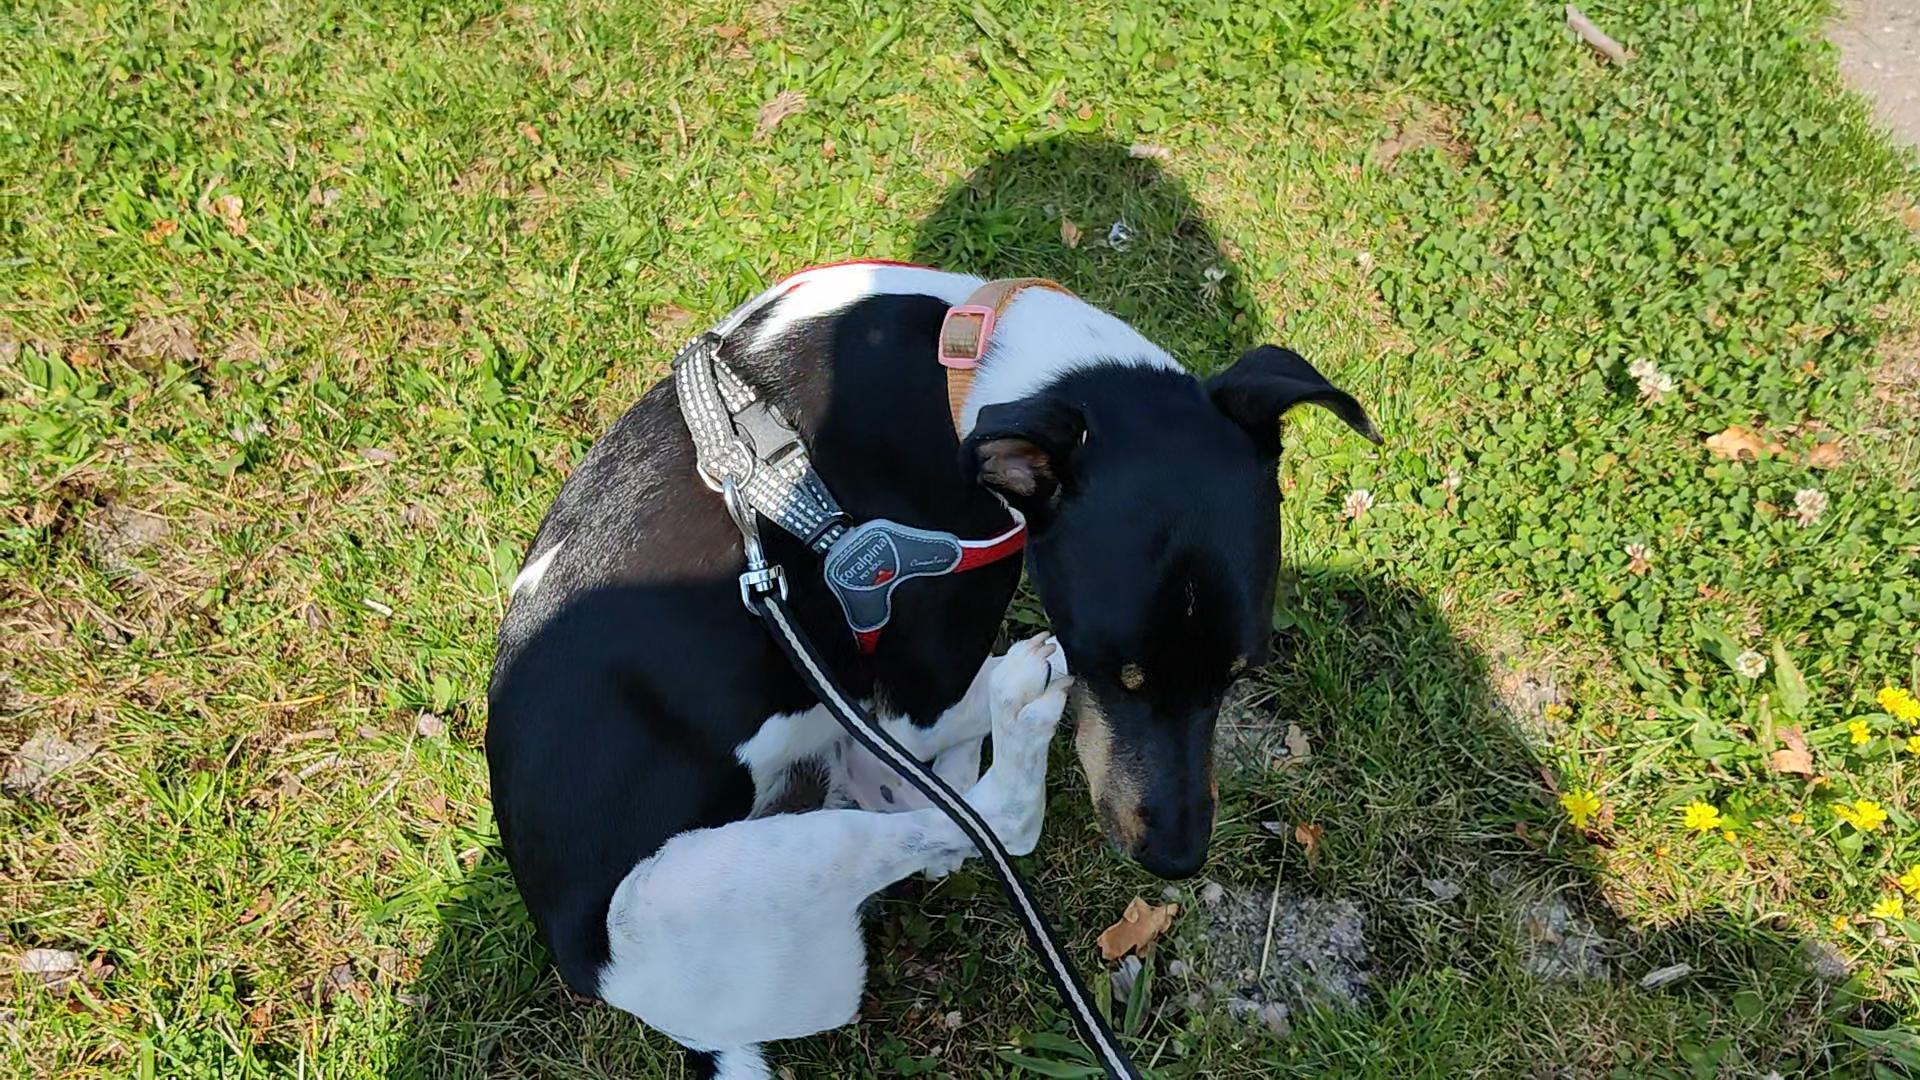Dog: (463, 187, 1400, 1079)
